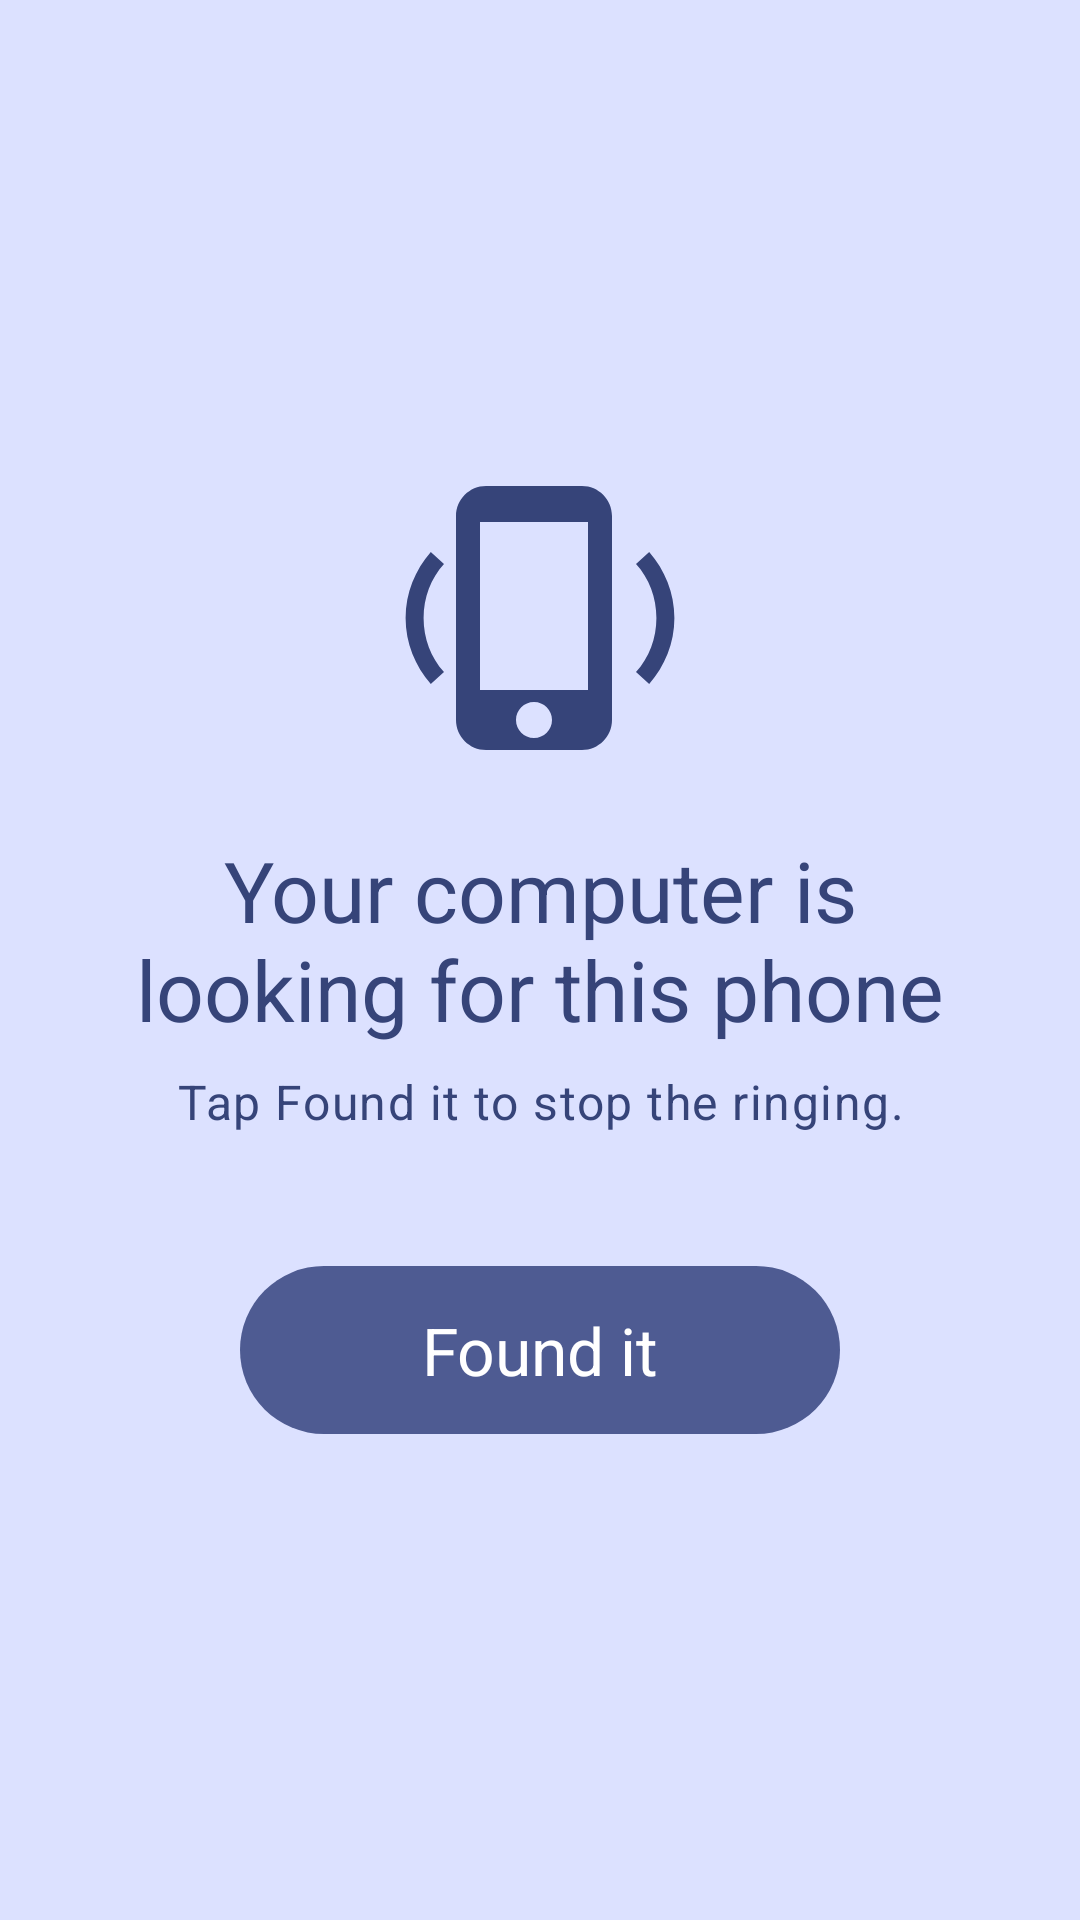

Where icons sit on this 1080×1920 app screen, as {"x1": x1, "y1": y1, "x2": x2, "y2": y2}:
ring phone: {"x1": 405, "y1": 486, "x2": 675, "y2": 750}
